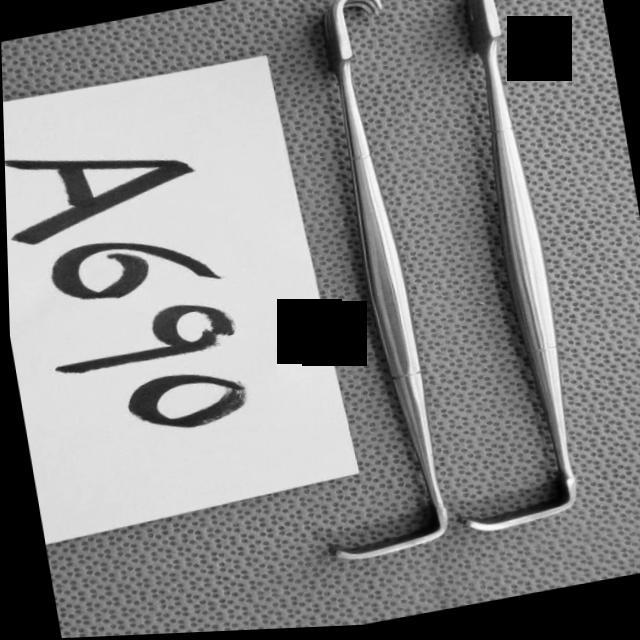Senn Retractor: (221, 0, 478, 577), (376, 0, 624, 544)
